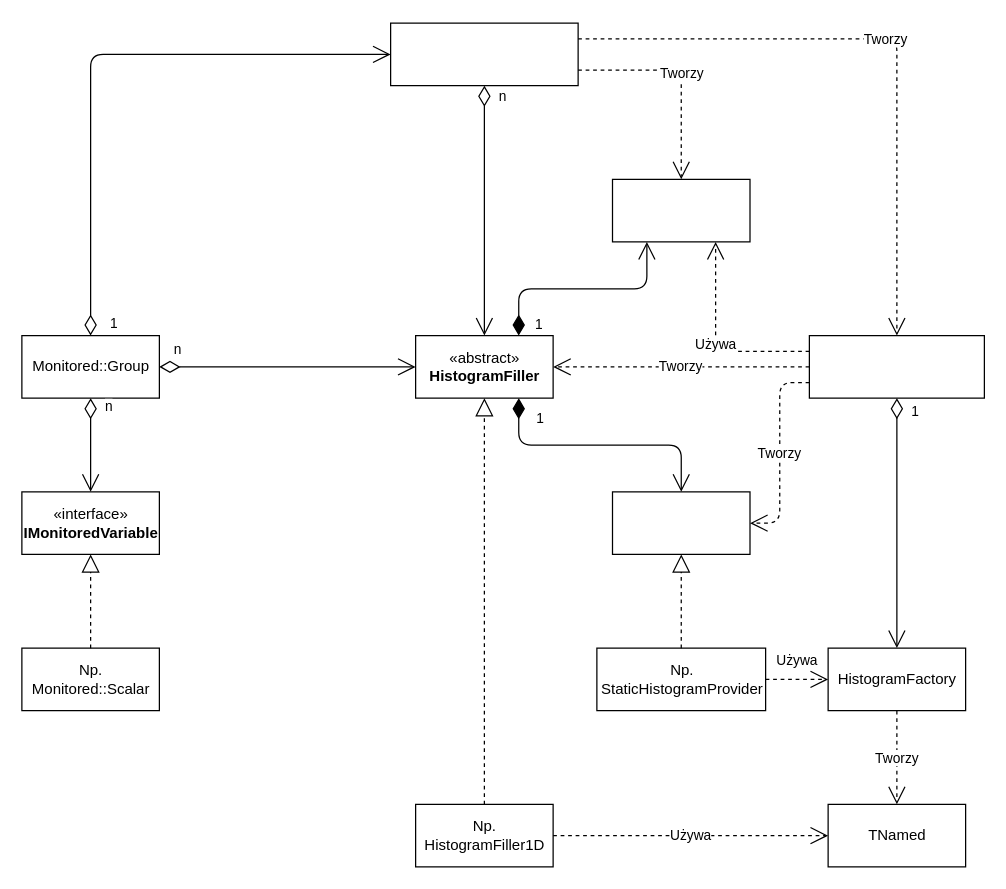
Some shapes in this 1006 by 889 pixel diagram are drawn without their labels. Each missing label, with the box of its shape:
GenericMonitoringTool: (389, 22, 578, 86)
HistogramDef: (611, 178, 750, 242)
HistogramFillerFactory: (808, 334, 984, 398)
«interface» IHistogramProvider: (611, 491, 750, 554)
